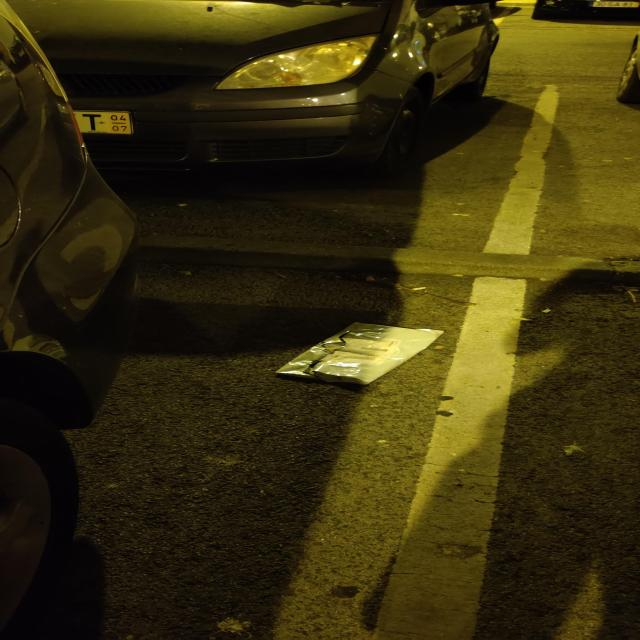Other plastic: (275, 322, 444, 384)
